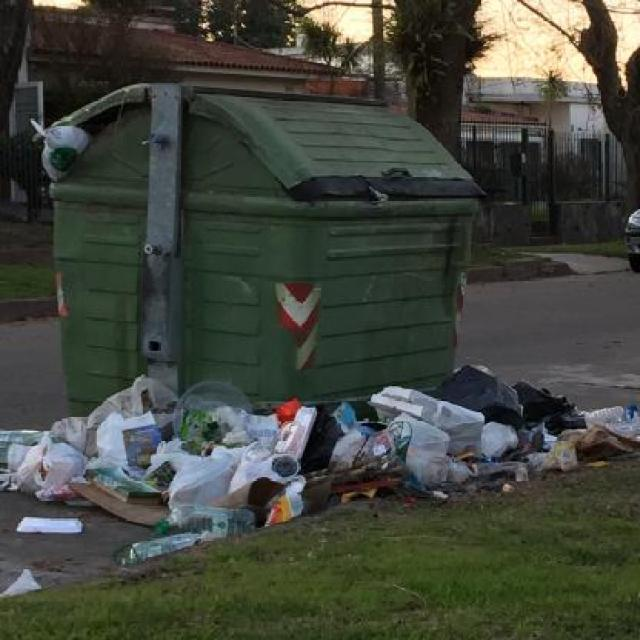garbage: (3, 386, 634, 474), (17, 431, 273, 551)
